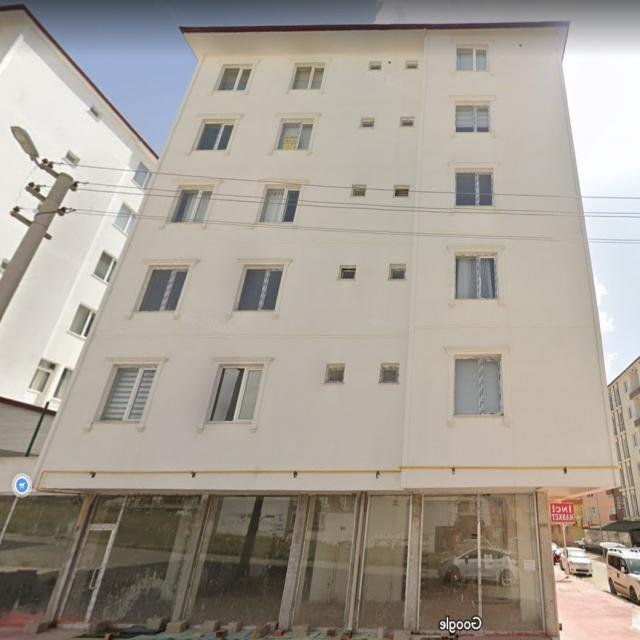Building: (32, 23, 619, 633)
